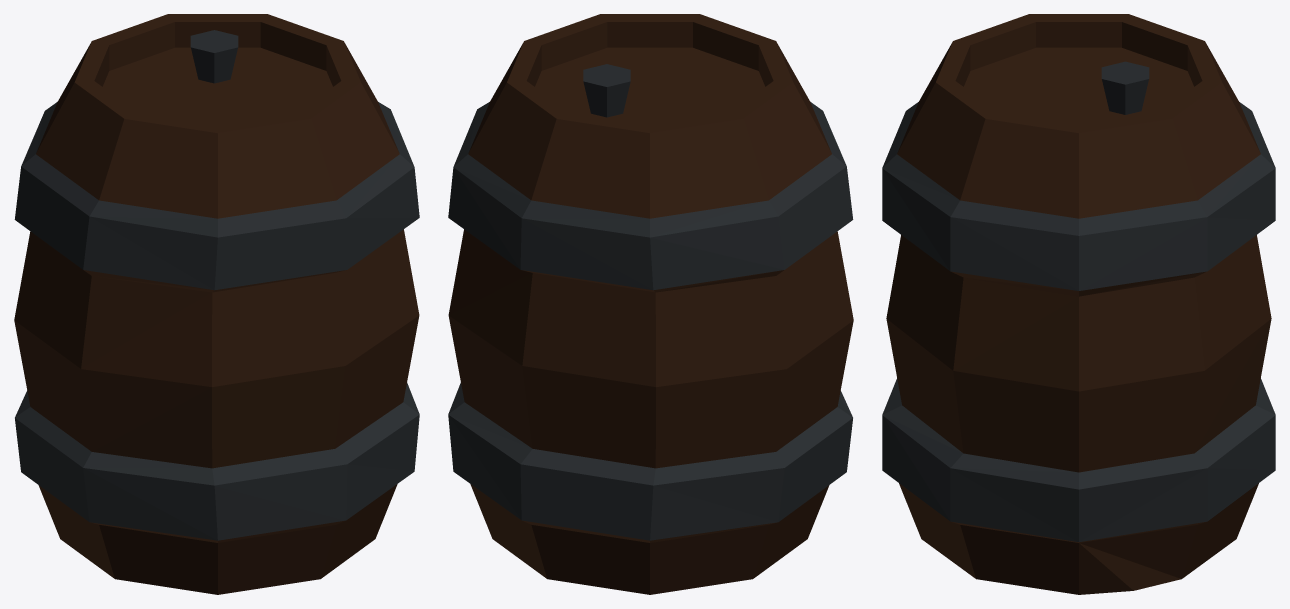
File: barrel.FBX
3 renders of one model, left to right at view 1: azimuth 30°, elevation 25°; view 2: azimuth 150°, elevation 25°; view 3: azimuth 270°, elevation 25°, orthographic.
Visible parts, largest first — view 1: barrel; view 2: barrel; view 3: barrel.
Part boxes in pixels (left/top/right/bottom): barrel: left=14, top=14, right=419, bottom=594; barrel: left=448, top=14, right=853, bottom=594; barrel: left=882, top=14, right=1275, bottom=594.
Bounding box in the file's own units: 3.81 × 4.81 × 3.7.
